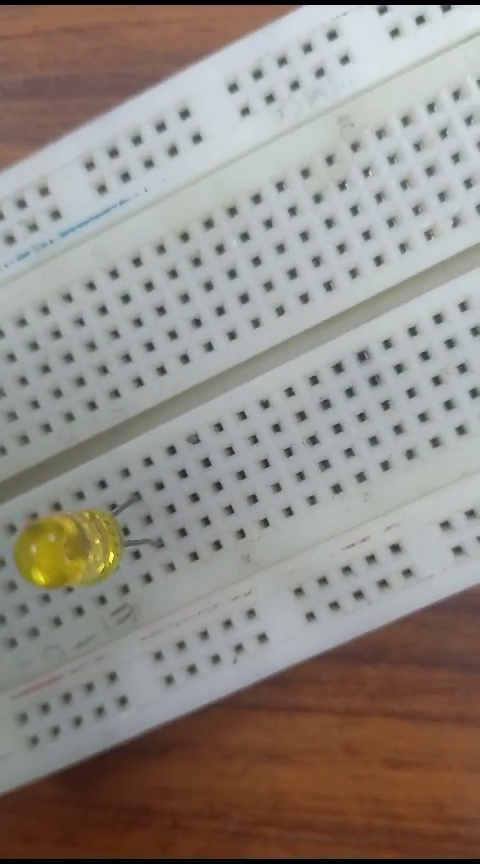LED: (16, 497, 150, 585)
